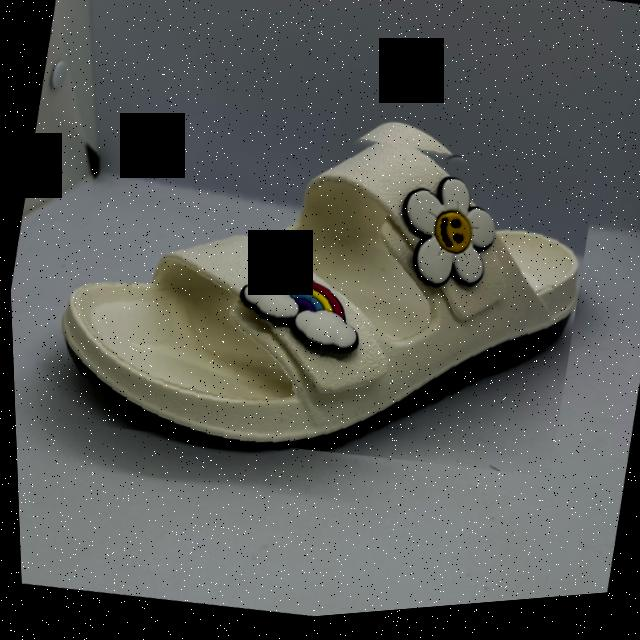shoe: (34, 63, 608, 518)
